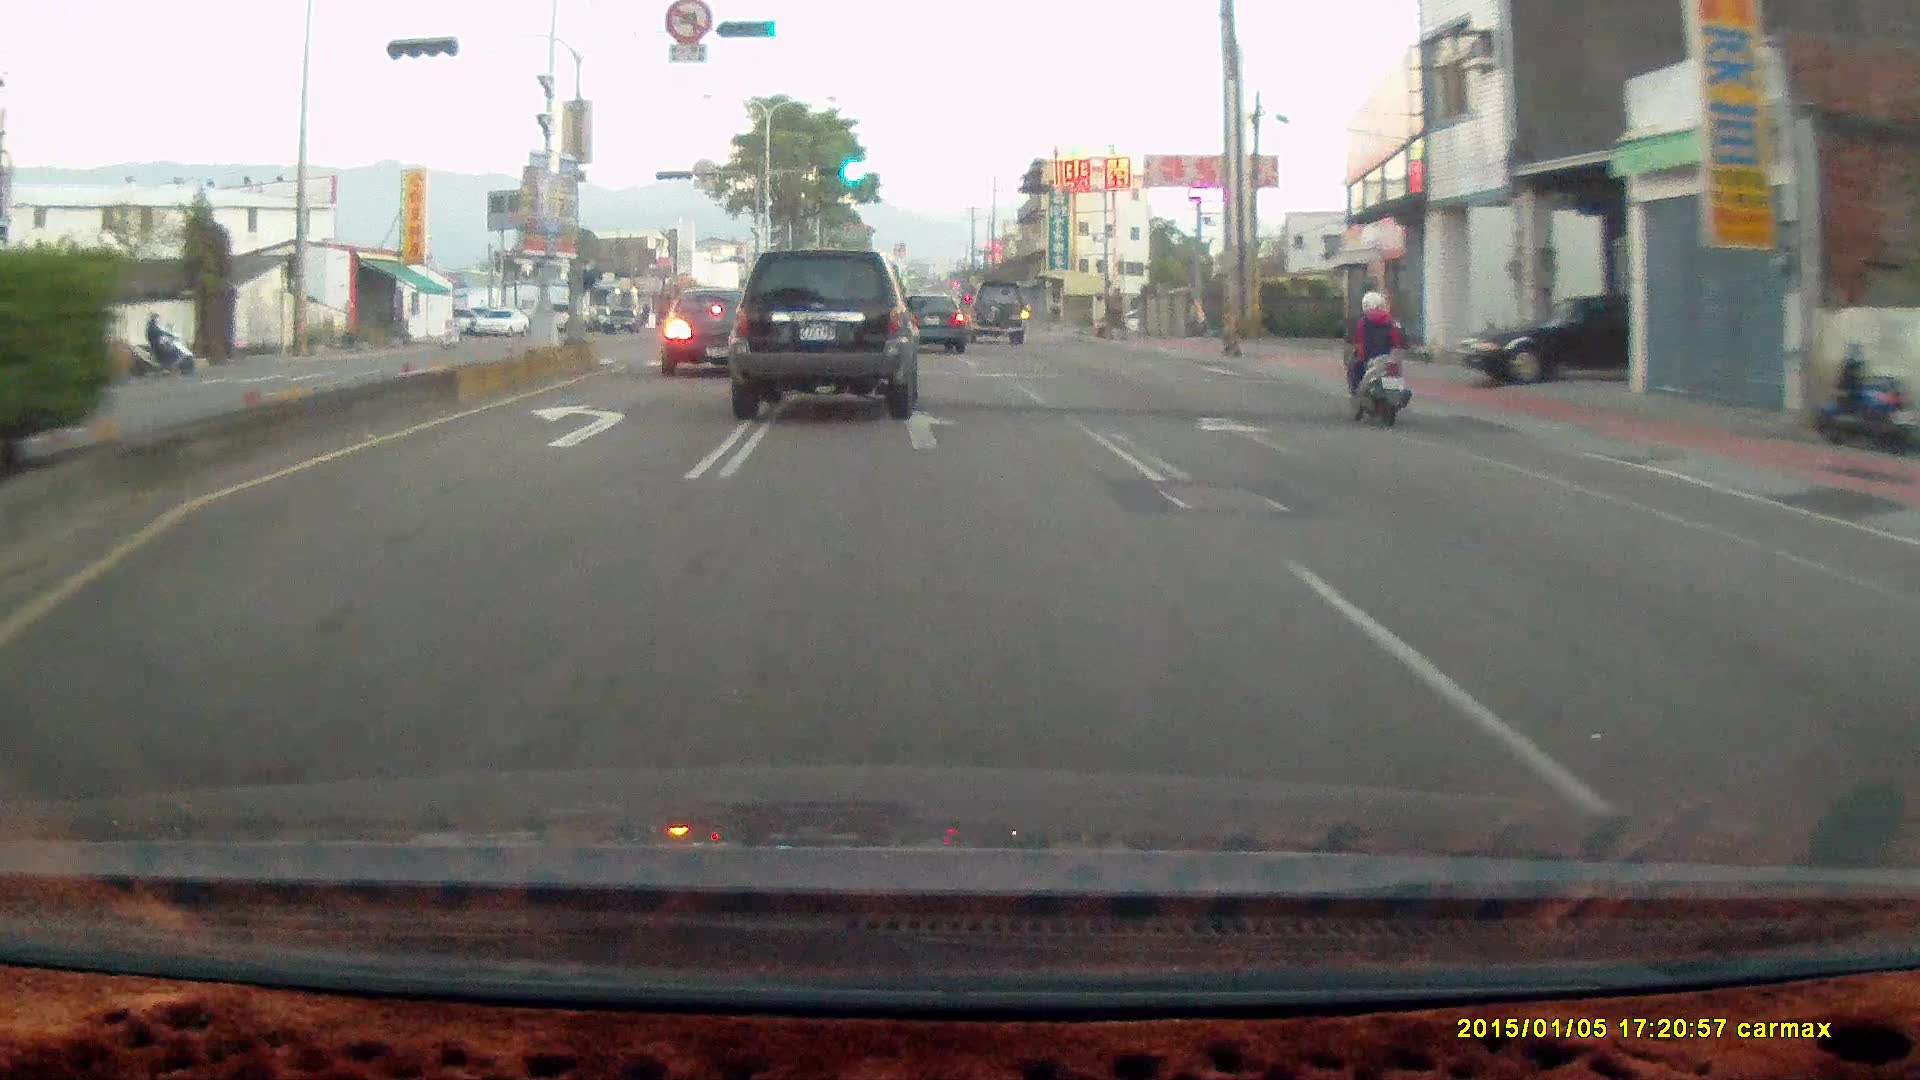rider: (1328, 283, 1424, 435), (1334, 286, 1411, 422), (118, 310, 198, 380)
vehicle: (733, 253, 929, 435), (728, 248, 926, 420), (1454, 293, 1712, 386), (1457, 293, 1643, 385), (663, 286, 773, 376), (661, 286, 770, 375), (889, 290, 965, 352), (895, 291, 969, 353), (961, 280, 1029, 347), (961, 278, 1027, 342), (470, 304, 531, 336), (533, 300, 587, 328), (603, 306, 641, 330)
